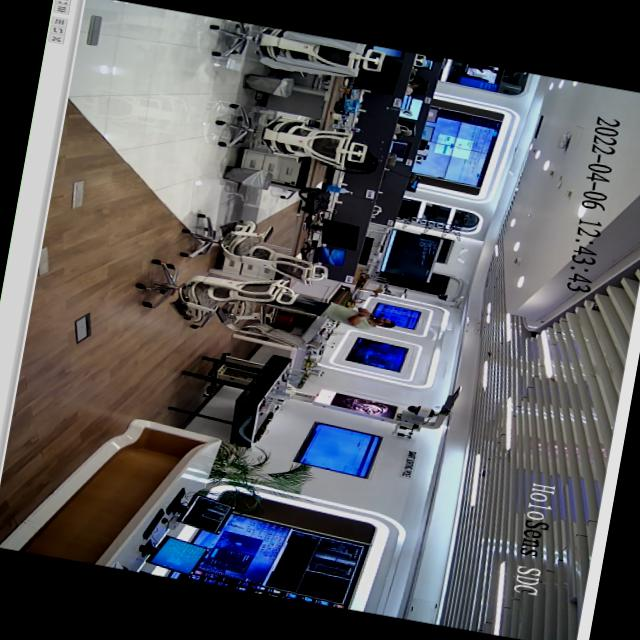long weapon: (356, 309, 378, 321)
